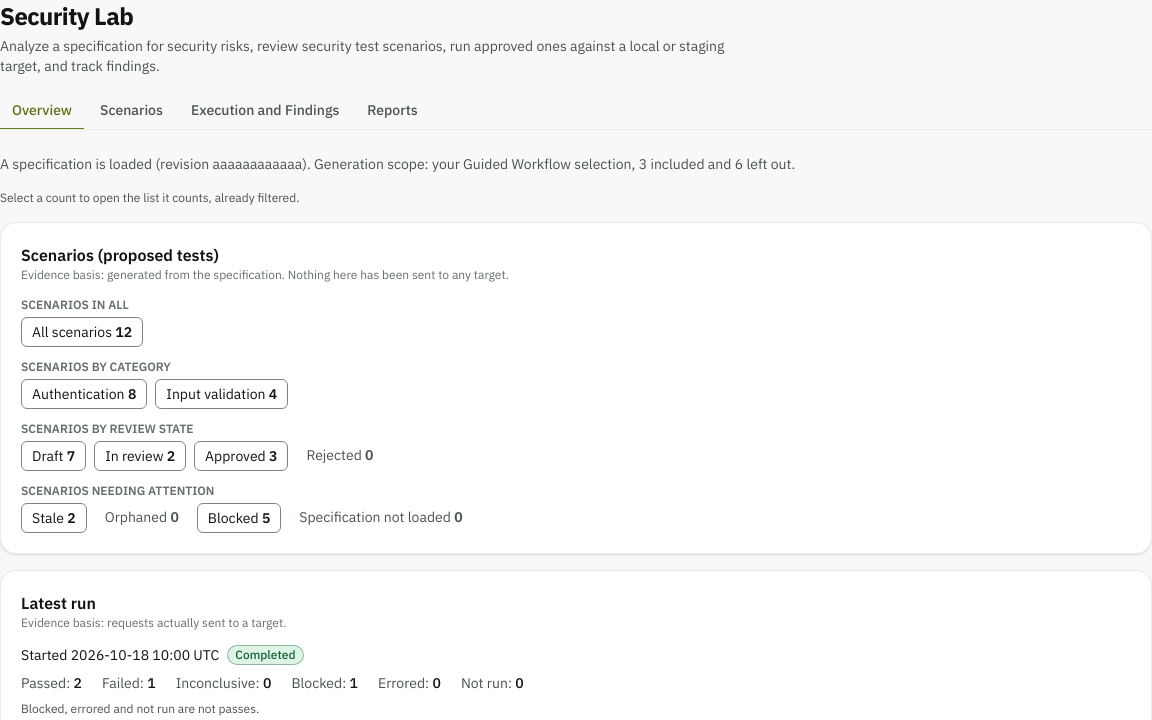
Test case: opening the list behind a count (SC-012) › opens the scenarios filtered by the count's filter, with the same total
Click the button "Stale 2" at (54, 518), box left=21, top=503, right=87, bottom=533
(page scrolled)
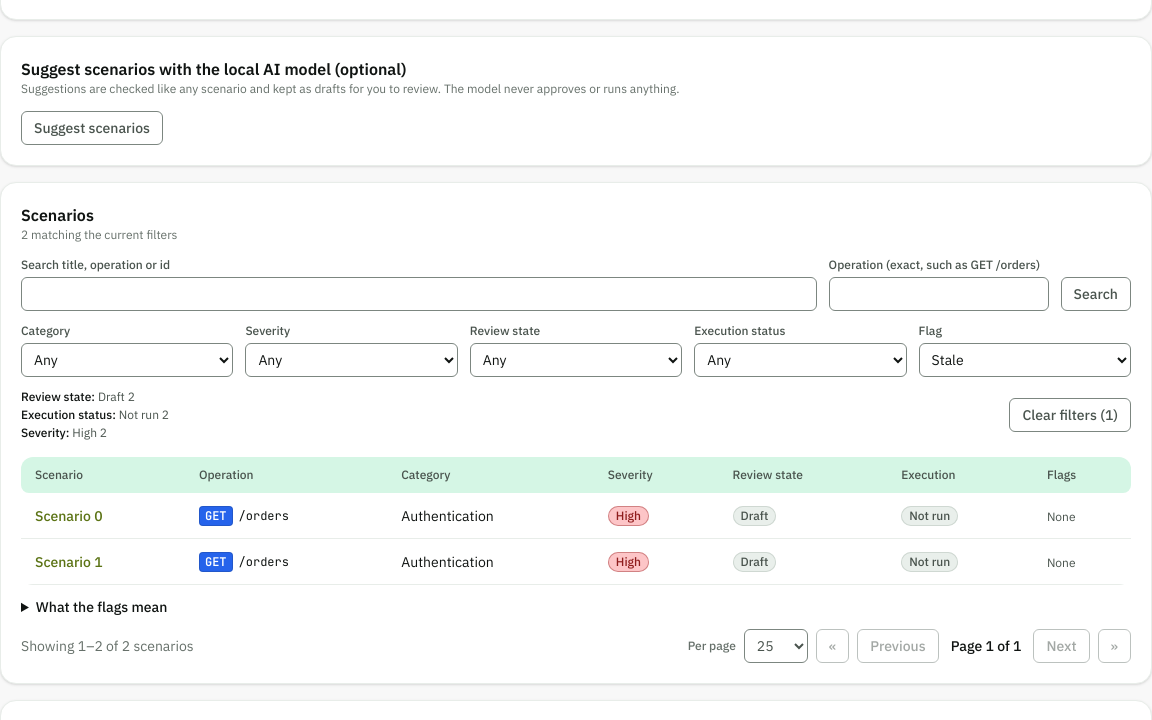
Expected: the text "Showing 1–2 of 2 scenarios" is shown, left=21, top=636, right=194, bottom=656
Expected: the dropdown labelled "Flag" shows "Stale", left=919, top=343, right=1131, bottom=377
